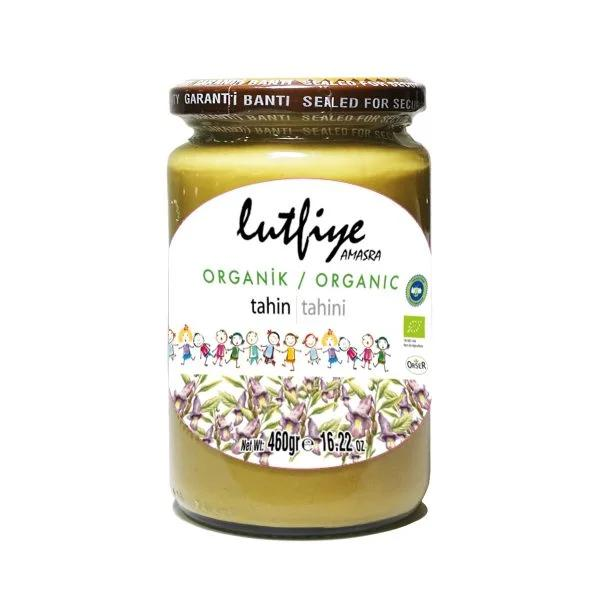jars: (159, 72, 442, 530)
